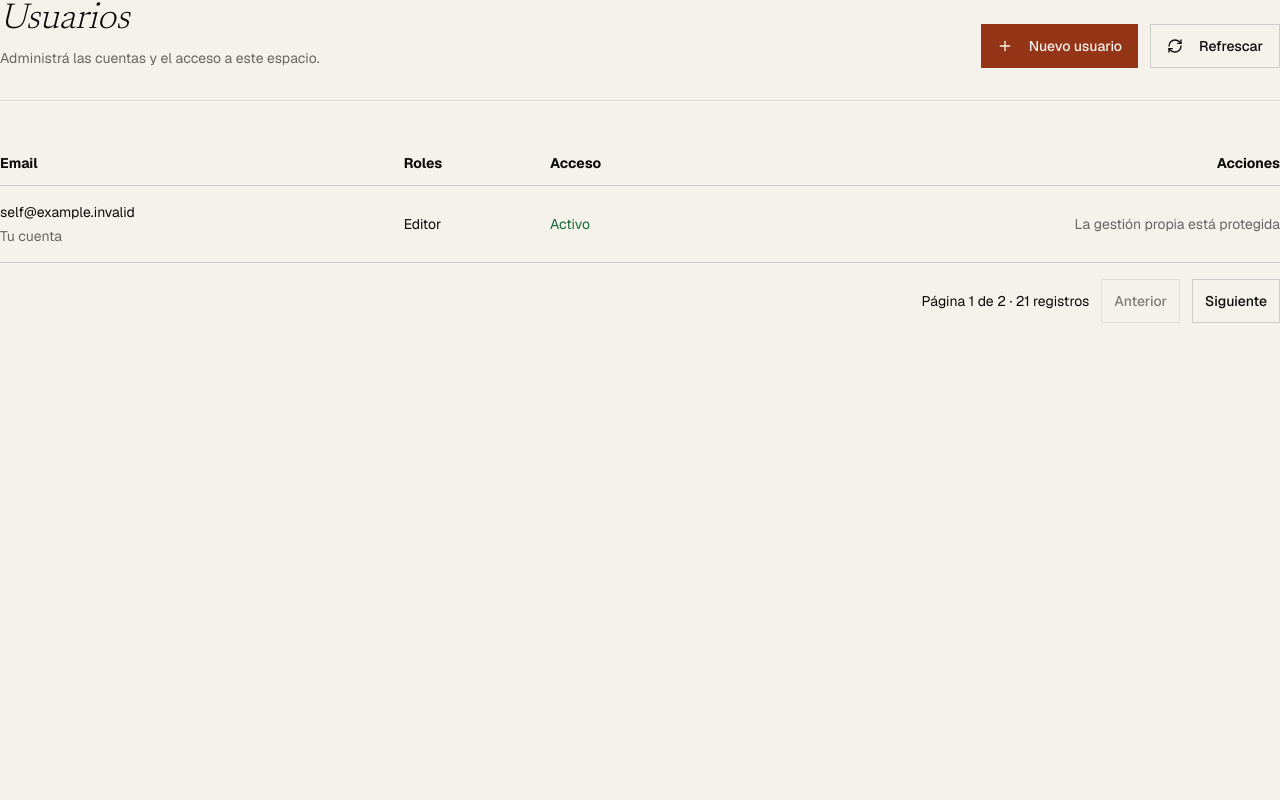
regresa a una página válida tras eliminar el último usuario de la página
Click the button "Siguiente": (1236, 301) [1192,279,1279,323]
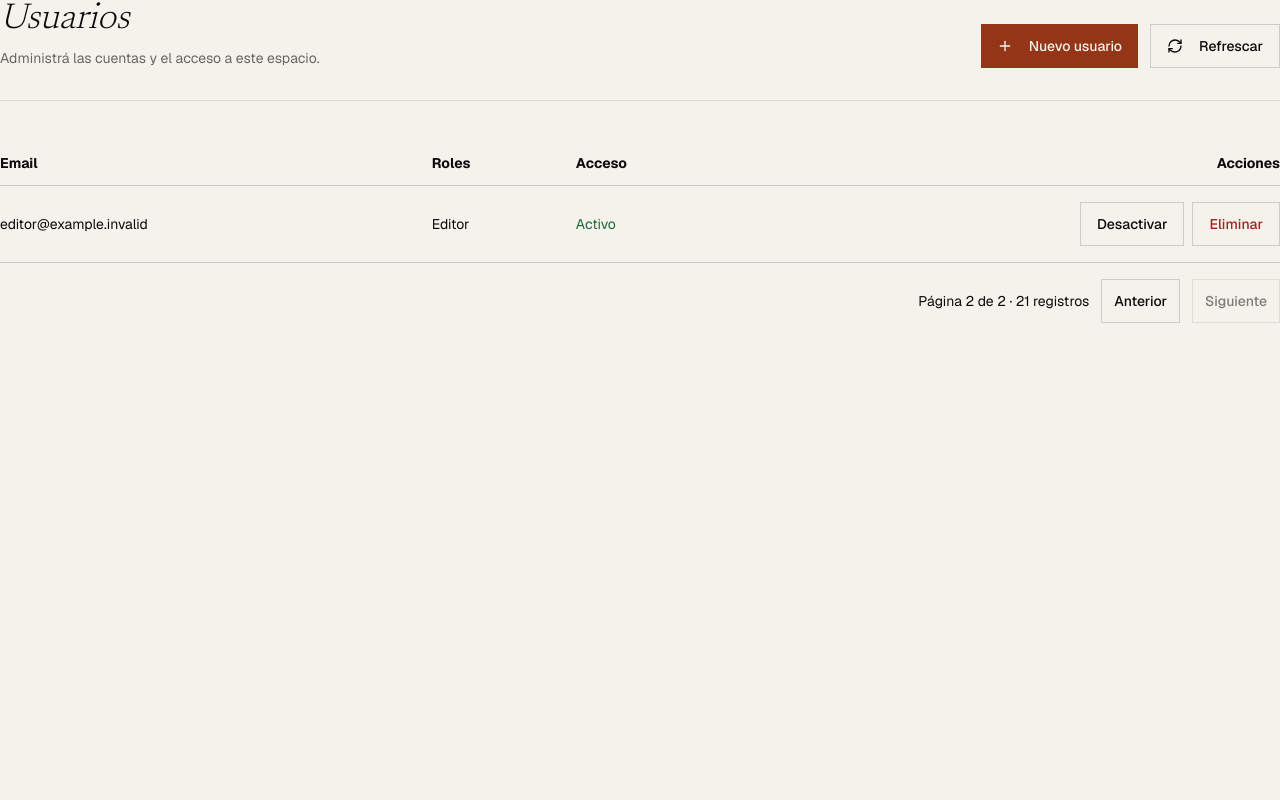
Click the button with aria-label "Eliminar usuario editor@example.invalid": (1236, 224) [1192,202,1279,246]
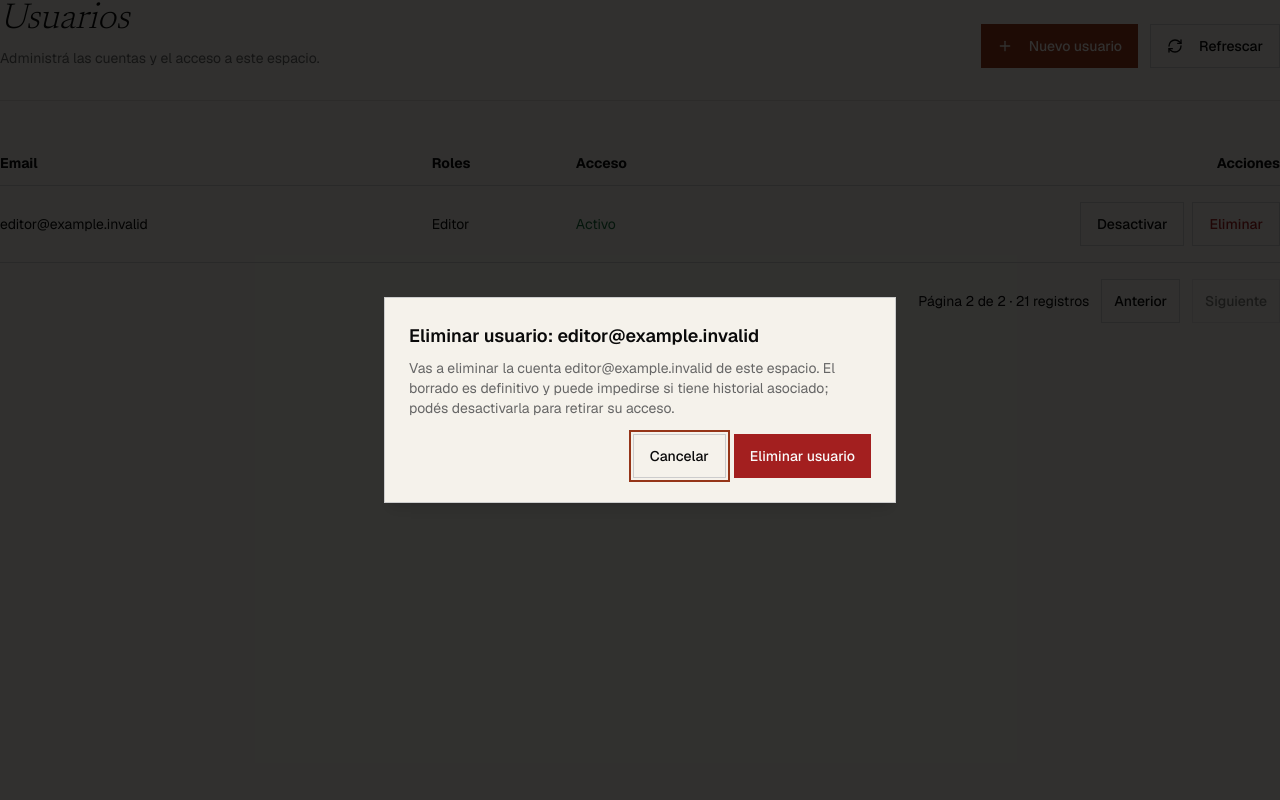
Click the button "Eliminar usuario": (802, 456) [734,434,871,478]
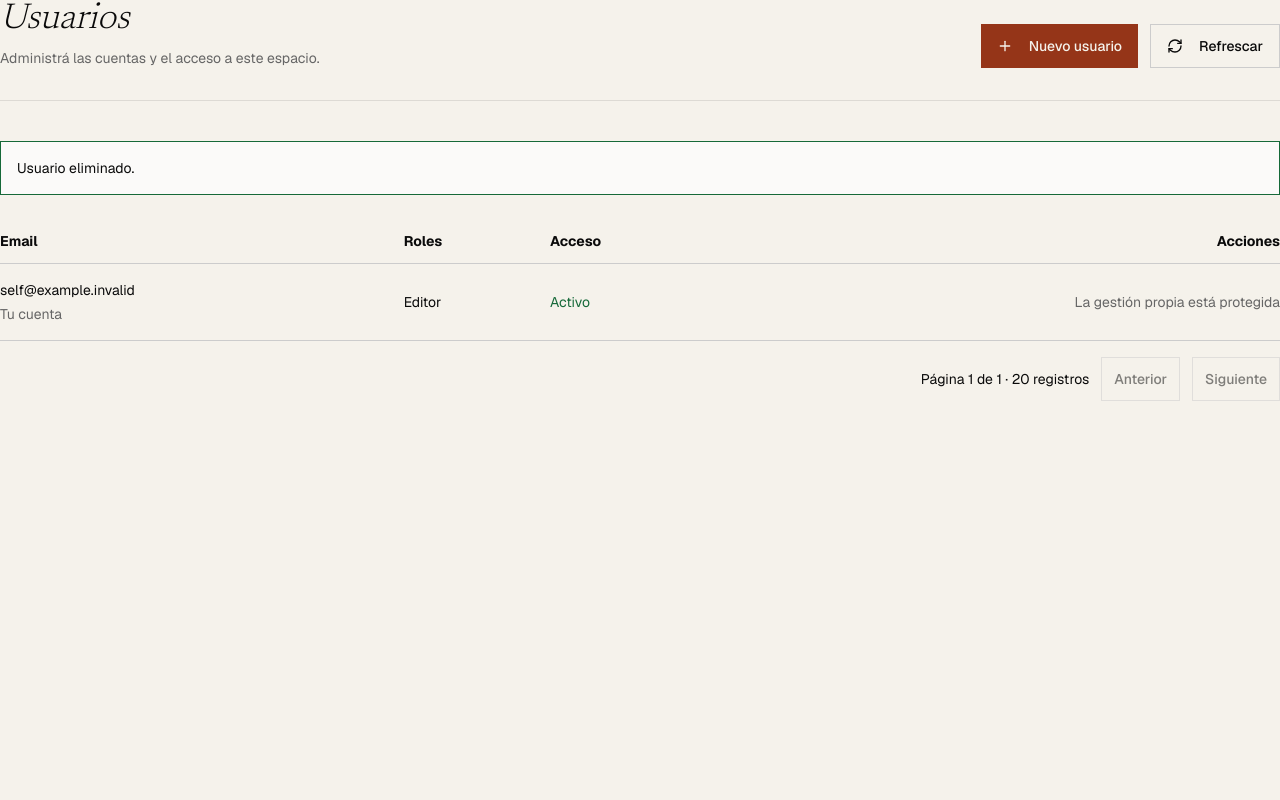
Expected: the text "Página 1 de 1 · 20 registros" is shown, [921,369,1089,389]
